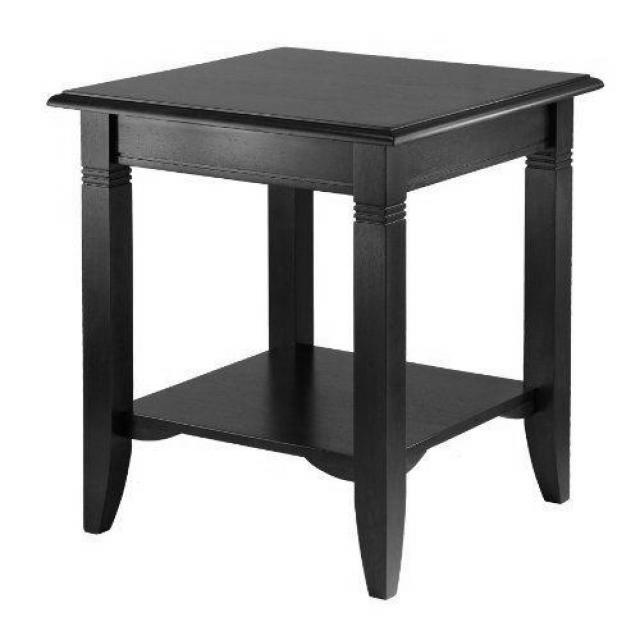table: (47, 45, 605, 597)
